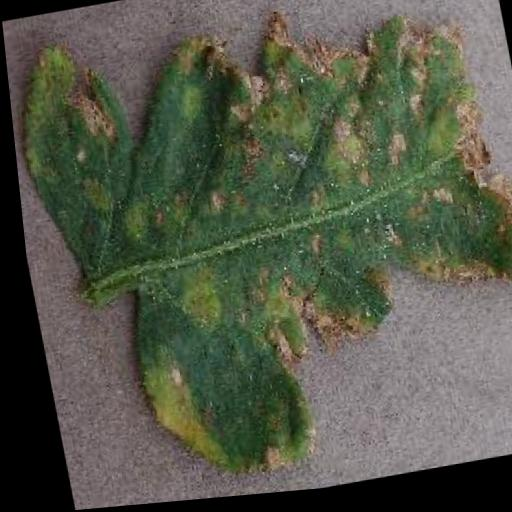Bacterial Spot: (0, 0, 512, 510)
